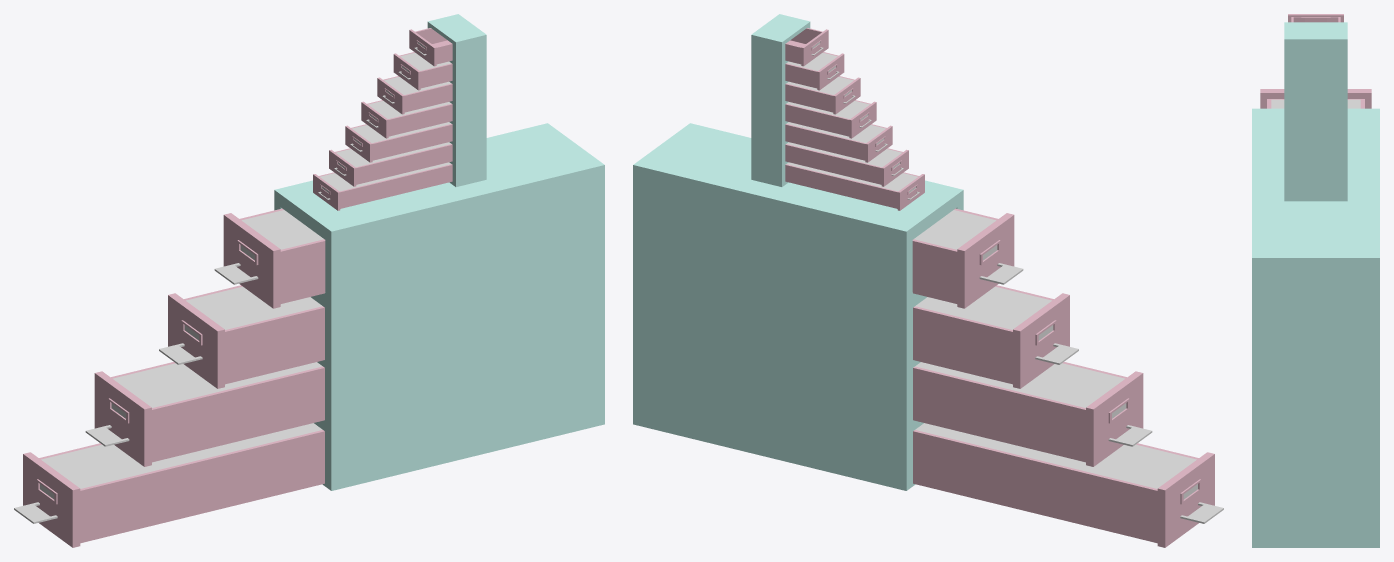
Rendered from Cabinet.fbx.
The picture shows the model from 3 angles, left to right: view 1: azimuth 30°, elevation 25°; view 2: azimuth 150°, elevation 25°; view 3: azimuth 270°, elevation 25°; orthographic projection. The views are drawn at different scales.
Parts seen in each view (by area): view 1: Shelves.002; view 2: Shelves.002; view 3: Shelves.002.
Boxes of the visible parts, left/top/right/bottom form: Shelves.002: left=14, top=14, right=604, bottom=547; Shelves.002: left=633, top=14, right=1223, bottom=547; Shelves.002: left=1252, top=14, right=1379, bottom=547.
Size of the model in its own units: 6941 by 4855 by 1243.
